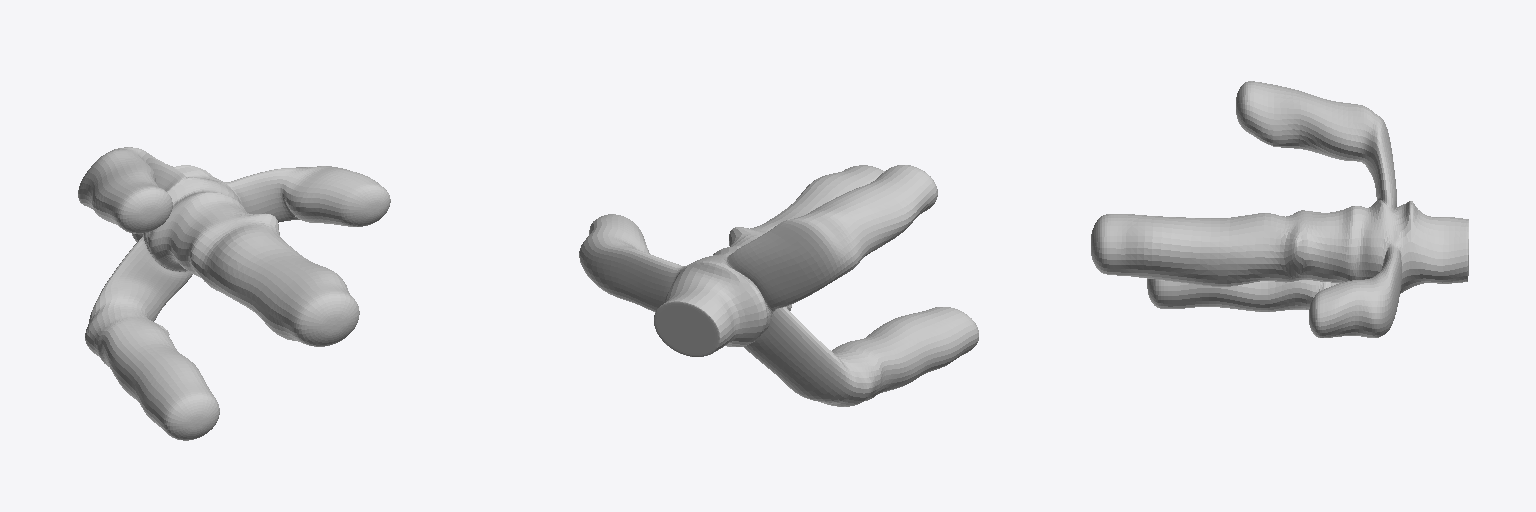
The model's file is cactus.obj.
The picture shows the model from 3 angles: view 1: azimuth 30°, elevation 25°; view 2: azimuth 150°, elevation 25°; view 3: azimuth 270°, elevation 25°; orthographic projection.
Parts seen in each view (by area): view 1: cactus; view 2: cactus; view 3: cactus.
Boxes of the visible parts, x1,y1,x2,y2 form: cactus: [78, 147, 390, 440]; cactus: [579, 165, 978, 406]; cactus: [1091, 81, 1468, 337].
Bounding box in the file's own units: 5.02 × 3.41 × 5.35.